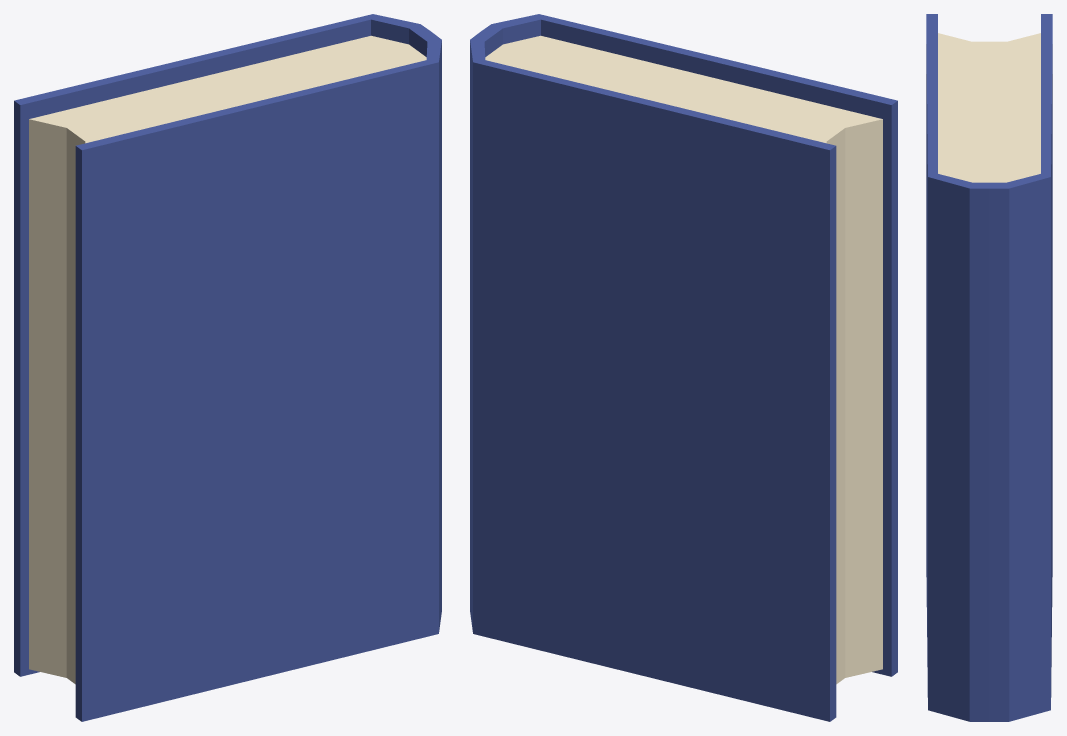
File: Book_13.fbx
3 views of the same model, side by side, from view 1: azimuth 30°, elevation 25°; view 2: azimuth 150°, elevation 25°; view 3: azimuth 270°, elevation 25° (orthographic). The views are drawn at different scales.
Visible parts, largest first — view 1: Plane.300; view 2: Plane.300; view 3: Plane.300.
Boxes of the visible parts, x1=… form: Plane.300: x1=14, y1=14, x2=441, y2=721; Plane.300: x1=470, y1=14, x2=897, y2=721; Plane.300: x1=926, y1=14, x2=1052, y2=721.
Bounding box in the file's own units: 0.285 × 0.0873 × 0.4058.
